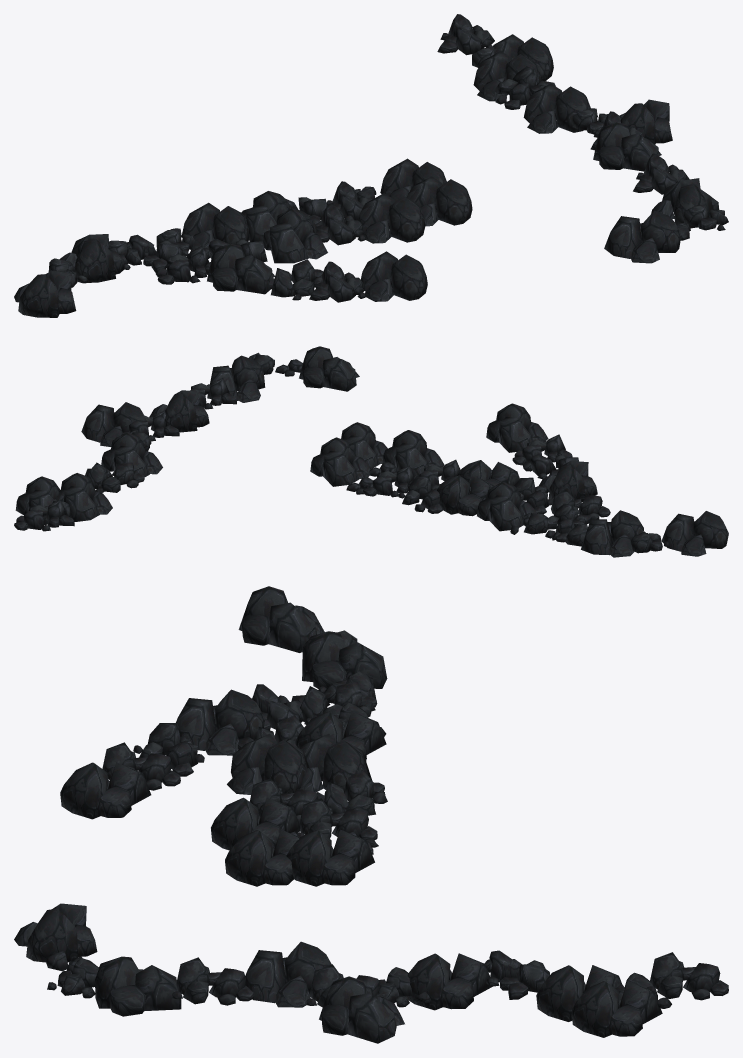
File: ExteriorLakeRocks.gltf
3 views of the same model, one above another, from view 1: azimuth 30°, elevation 25°; view 2: azimuth 150°, elevation 25°; view 3: azimuth 270°, elevation 25° (orthographic). The views are drawn at different scales.
Parts seen in each view (by area): view 1: P_PROP_debris_stones_dungeon_04 (8), P_PROP_debris_stones_dungeon_04 (7), P_PROP_debris_stones_dungeon_04 (1), P_PROP_debris_stones_dungeon_04 (2), P_PROP_debris_stones_dungeon_04 (16), P_PROP_debris_stones_dungeon_04 (11), P_PROP_debris_stones_dungeon_04, P_PROP_debris_stones_dungeon_04 (10), P_PROP_debris_stones_dungeon_04 (6), P_PROP_debris_stones_dungeon_04 (4), P_PROP_debris_stones_dungeon_04 (15), P_PROP_debris_stones_dungeon_04 (12) (+20 smaller); view 2: P_PROP_debris_stones_dungeon_04 (6), P_PROP_debris_stones_dungeon_04 (15), P_PROP_debris_stones_dungeon_04 (3), P_PROP_debris_stones_dungeon_04 (8), P_PROP_debris_stones_dungeon_04 (7), P_PROP_debris_stones_dungeon_04 (4), P_PROP_debris_stones_dungeon_04 (14), P_PROP_debris_stones_dungeon_04 (12), P_PROP_debris_stones_dungeon_04 (9), P_PROP_debris_stones_dungeon_04 (1), P_PROP_debris_stones_dungeon_04 (5), P_PROP_debris_stones_dungeon_04 (11) (+20 smaller); view 3: P_PROP_debris_stones_dungeon_04 (16), P_PROP_debris_stones_dungeon_04 (9), P_PROP_debris_stones_dungeon_04 (14), P_PROP_debris_stones_dungeon_04 (7), P_PROP_debris_stones_dungeon_04 (10), P_PROP_debris_stones_dungeon_04 (13), P_PROP_debris_stones_dungeon_04 (3), P_PROP_debris_stones_dungeon_04 (6), P_PROP_debris_stones_dungeon_04 (11), P_PROP_debris_stones_dungeon_04 (2), P_PROP_debris_stones_dungeon_04 (15), P_PROP_debris_stones_dungeon_04 (8) (+20 smaller).
Boxes of the visible parts, x1=… form: P_PROP_debris_stones_dungeon_04 (8): x1=604, y1=210, x2=681, y2=263; P_PROP_debris_stones_dungeon_04 (7): x1=360, y1=251, x2=427, y2=301; P_PROP_debris_stones_dungeon_04 (1): x1=358, y1=193, x2=425, y2=243; P_PROP_debris_stones_dungeon_04 (2): x1=263, y1=208, x2=327, y2=263; P_PROP_debris_stones_dungeon_04 (16): x1=207, y1=243, x2=274, y2=294; P_PROP_debris_stones_dungeon_04 (11): x1=523, y1=83, x2=590, y2=133; P_PROP_debris_stones_dungeon_04: x1=407, y1=176, x2=472, y2=226; P_PROP_debris_stones_dungeon_04 (10): x1=593, y1=122, x2=661, y2=171; P_PROP_debris_stones_dungeon_04 (6): x1=14, y1=270, x2=76, y2=317; P_PROP_debris_stones_dungeon_04 (4): x1=181, y1=202, x2=248, y2=249; P_PROP_debris_stones_dungeon_04 (15): x1=60, y1=234, x2=124, y2=282; P_PROP_debris_stones_dungeon_04 (12): x1=473, y1=51, x2=541, y2=101; P_PROP_debris_stones_dungeon_04 (6): x1=661, y1=511, x2=728, y2=556; P_PROP_debris_stones_dungeon_04 (15): x1=581, y1=510, x2=643, y2=557; P_PROP_debris_stones_dungeon_04 (3): x1=310, y1=437, x2=370, y2=486; P_PROP_debris_stones_dungeon_04 (8): x1=299, y1=346, x2=359, y2=391; P_PROP_debris_stones_dungeon_04 (7): x1=486, y1=403, x2=548, y2=452; P_PROP_debris_stones_dungeon_04 (4): x1=477, y1=482, x2=536, y2=531; P_PROP_debris_stones_dungeon_04 (14): x1=81, y1=402, x2=148, y2=446; P_PROP_debris_stones_dungeon_04 (12): x1=56, y1=473, x2=112, y2=522; P_PROP_debris_stones_dungeon_04 (9): x1=207, y1=355, x2=265, y2=402; P_PROP_debris_stones_dungeon_04 (1): x1=382, y1=430, x2=444, y2=476; P_PROP_debris_stones_dungeon_04 (5): x1=437, y1=475, x2=494, y2=516; P_PROP_debris_stones_dungeon_04 (11): x1=101, y1=432, x2=162, y2=476; P_PROP_debris_stones_dungeon_04 (16): x1=176, y1=689, x2=265, y2=755; P_PROP_debris_stones_dungeon_04 (9): x1=95, y1=956, x2=181, y2=1016; P_PROP_debris_stones_dungeon_04 (14): x1=319, y1=976, x2=404, y2=1043; P_PROP_debris_stones_dungeon_04 (7): x1=60, y1=762, x2=151, y2=819; P_PROP_debris_stones_dungeon_04 (10): x1=244, y1=941, x2=331, y2=1007; P_PROP_debris_stones_dungeon_04 (13): x1=571, y1=981, x2=662, y2=1037; P_PROP_debris_stones_dungeon_04 (3): x1=286, y1=829, x2=374, y2=886; P_PROP_debris_stones_dungeon_04 (6): x1=238, y1=586, x2=324, y2=652; P_PROP_debris_stones_dungeon_04 (11): x1=406, y1=953, x2=492, y2=1010; P_PROP_debris_stones_dungeon_04 (2): x1=227, y1=734, x2=308, y2=794; P_PROP_debris_stones_dungeon_04 (15): x1=302, y1=631, x2=387, y2=688; P_PROP_debris_stones_dungeon_04 (8): x1=14, y1=903, x2=97, y2=962.
Bounding box in the file's own units: 22.65 × 1.52 × 16.27.
1 material, 1 textured.
